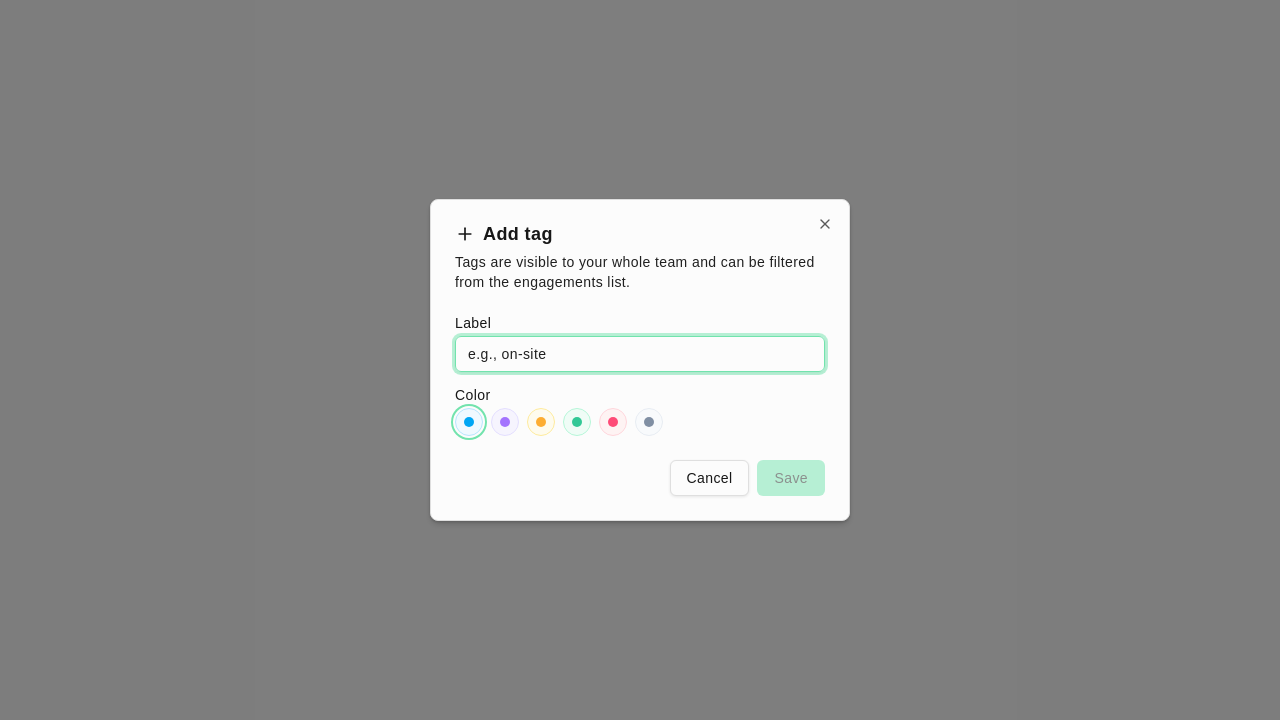
Scenario: <AddTagDialog> › enables Save once a non-whitespace label is entered
The width and height of the screenshot is (1280, 720).
Type "on-site" into the field labelled "Label" at (640, 354), box [455,336,825,372]
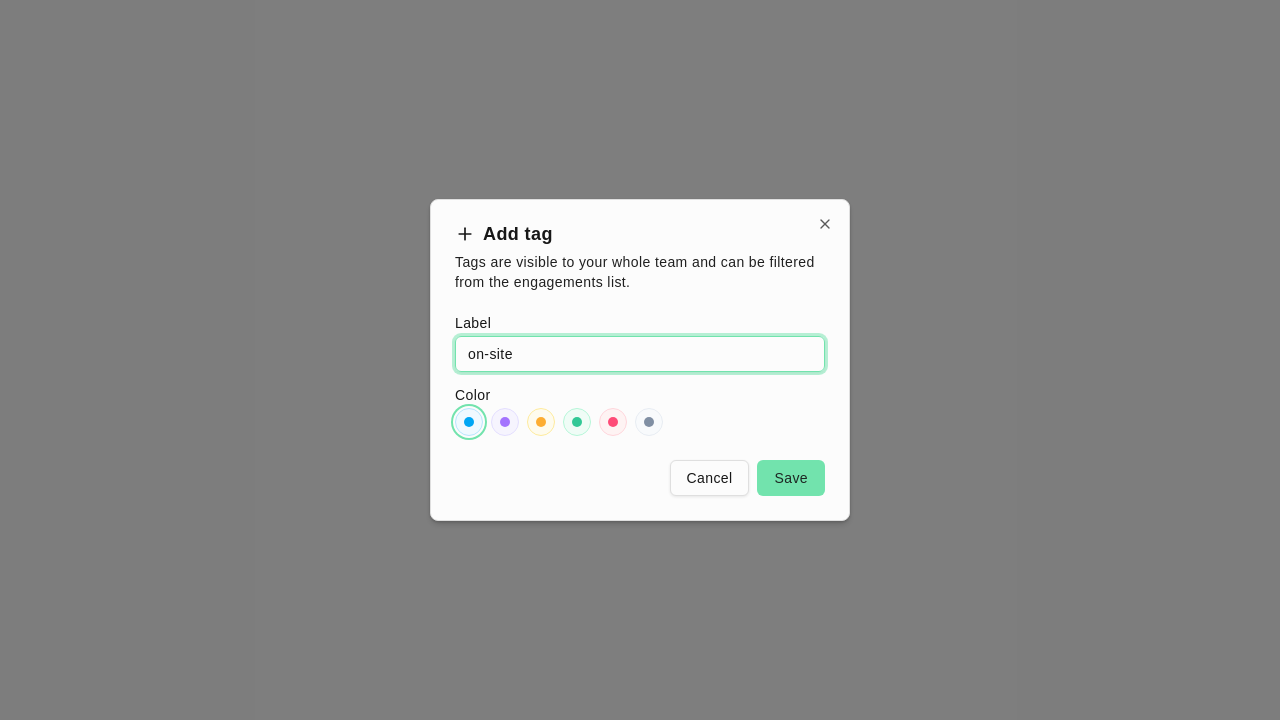
expect the button "Save" is enabled: met, box [758,460,825,496]
